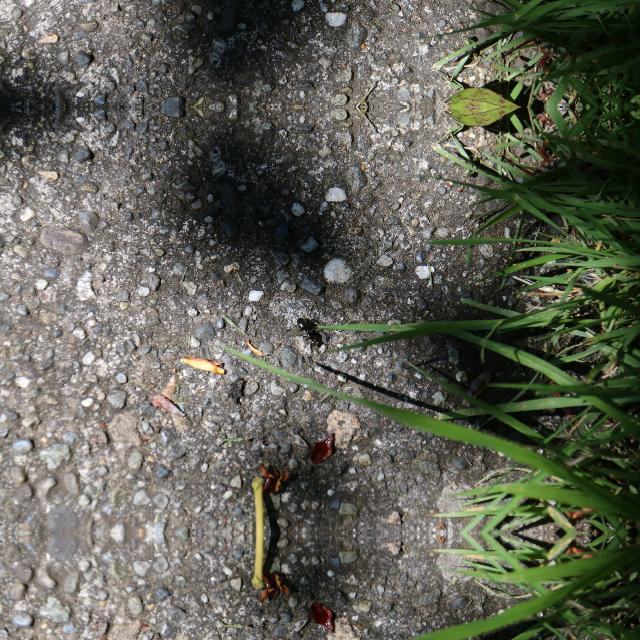Tapinoma: (288, 316, 330, 352)
